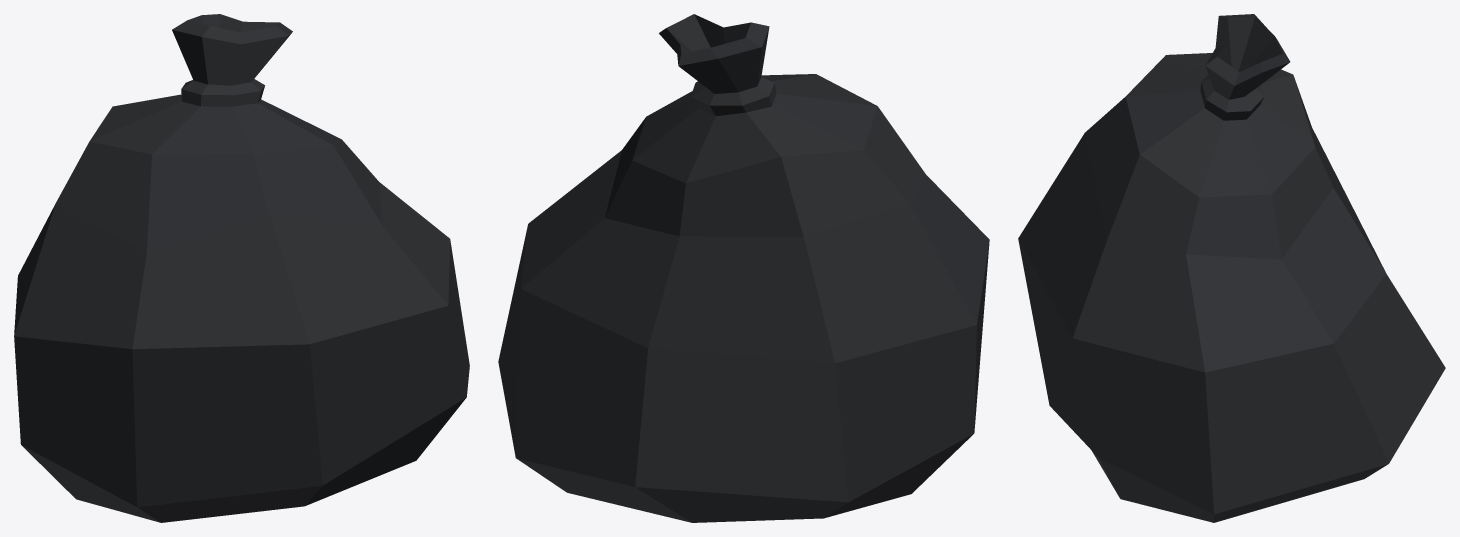
File: SM_Prop_TrashBag_02.fbx
3 renders of one model, left to right at view 1: azimuth 30°, elevation 25°; view 2: azimuth 150°, elevation 25°; view 3: azimuth 270°, elevation 25°, orthographic. The views are drawn at different scales.
Parts seen in each view (by area): view 1: SM_Prop_TrashBag_02; view 2: SM_Prop_TrashBag_02; view 3: SM_Prop_TrashBag_02.
Part boxes in pixels (x1,y1,x2,y2): SM_Prop_TrashBag_02: (14, 14, 469, 522); SM_Prop_TrashBag_02: (498, 14, 989, 522); SM_Prop_TrashBag_02: (1018, 14, 1445, 522).
Bounding box in the file's own units: 93.14 × 83.21 × 78.45.
